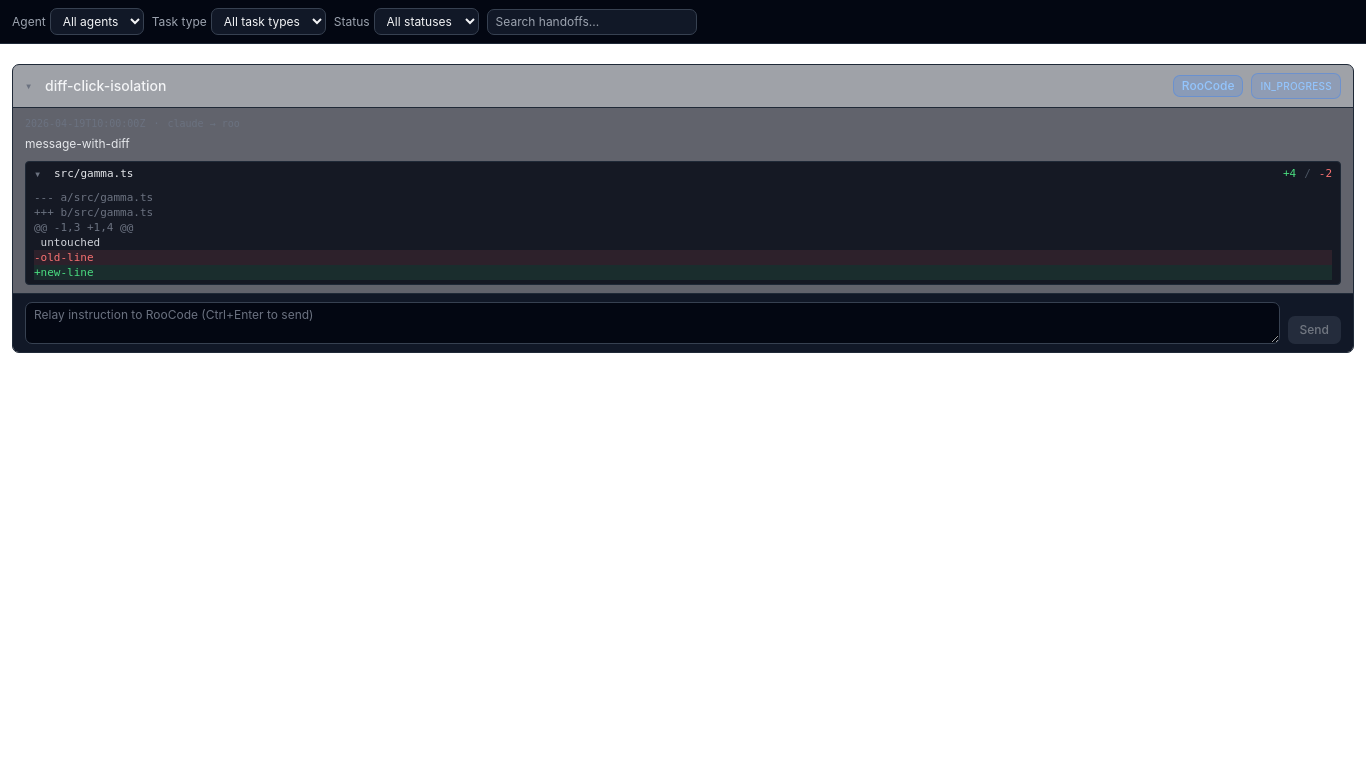
Test: Issue #154 §D.3.c — Inline diff rendering in HandoffThread › clicking the diff toggle does not open the inspector (stopPropagation)
This screenshot has width=1366, height=768.
Click the button labelled "▾ src/gamma.ts +4 / -2": point(94, 173) [26,162,1340,186]
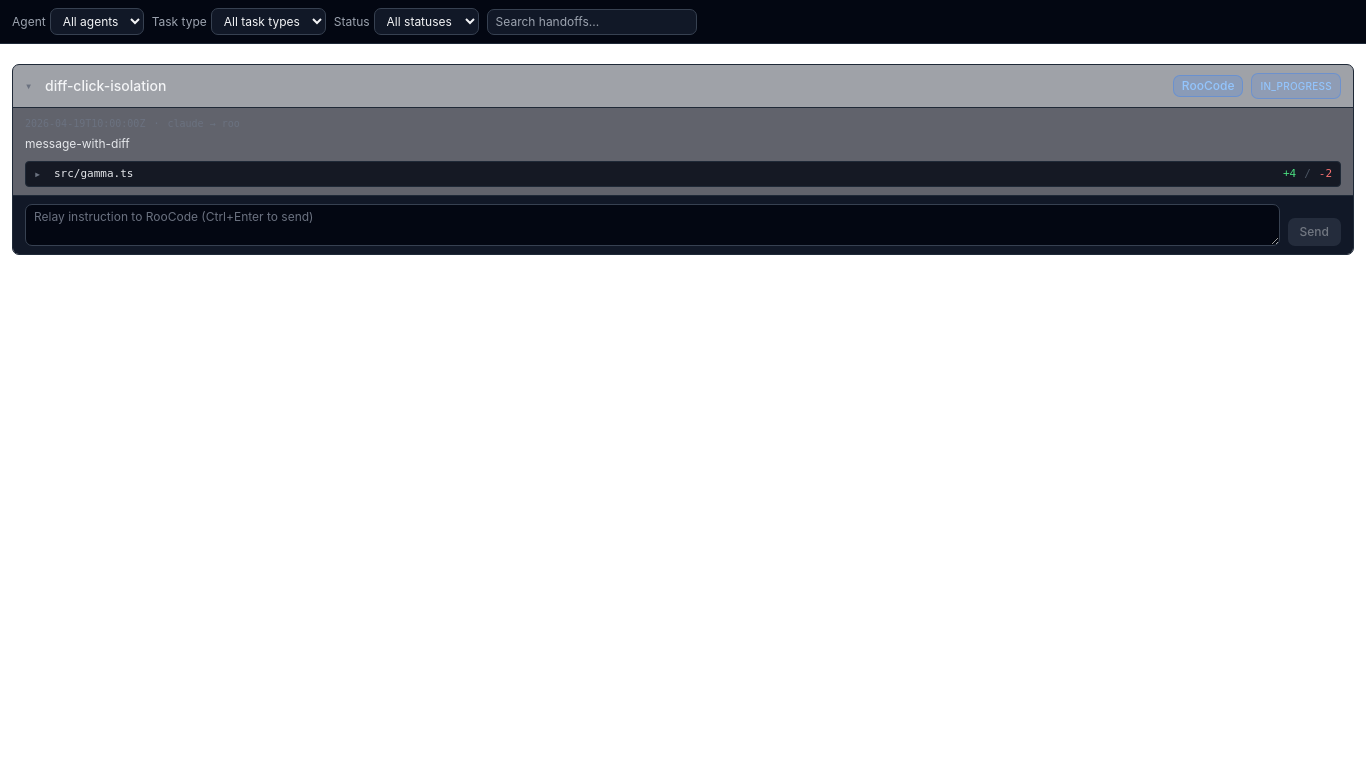
Click the text "message-with-diff": point(77, 144) [25,136,130,151]
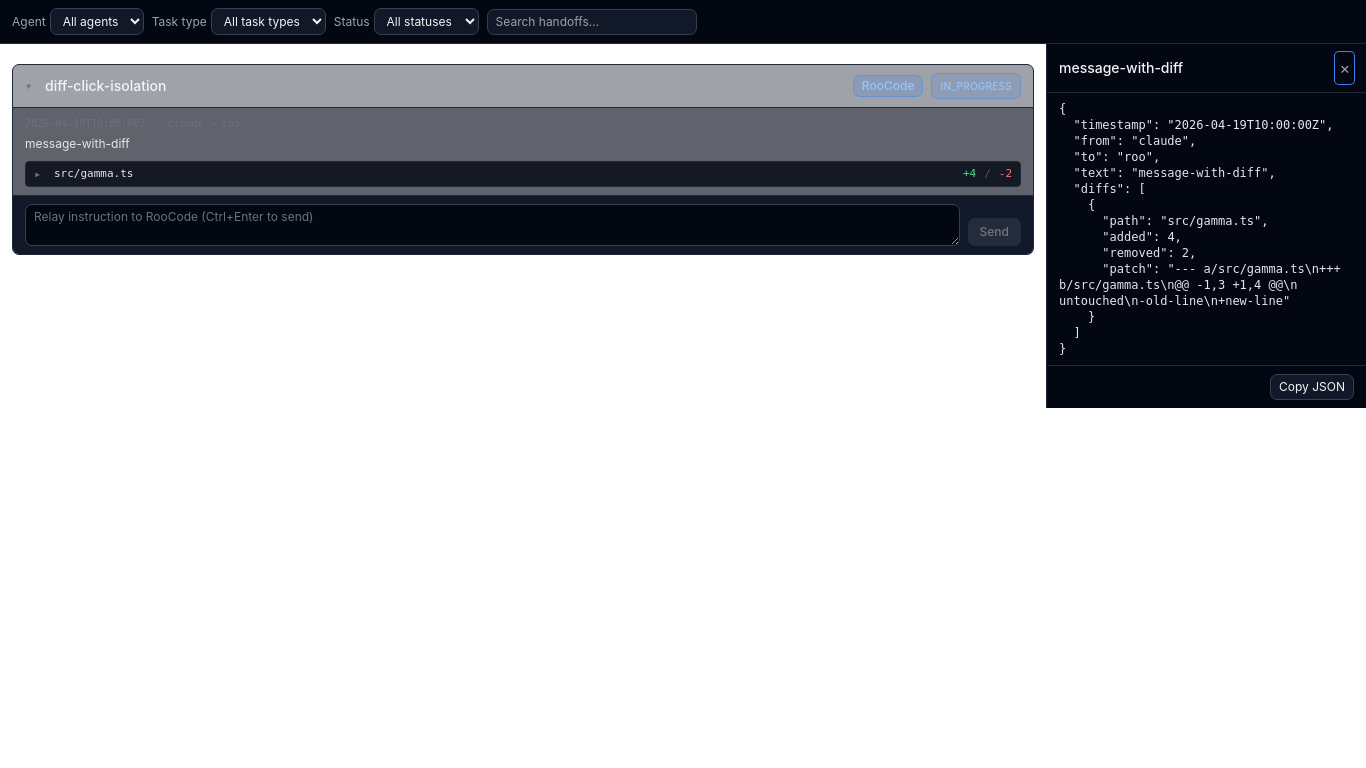
Result: the button named "close inspector" is shown at [1335,52,1354,84]
